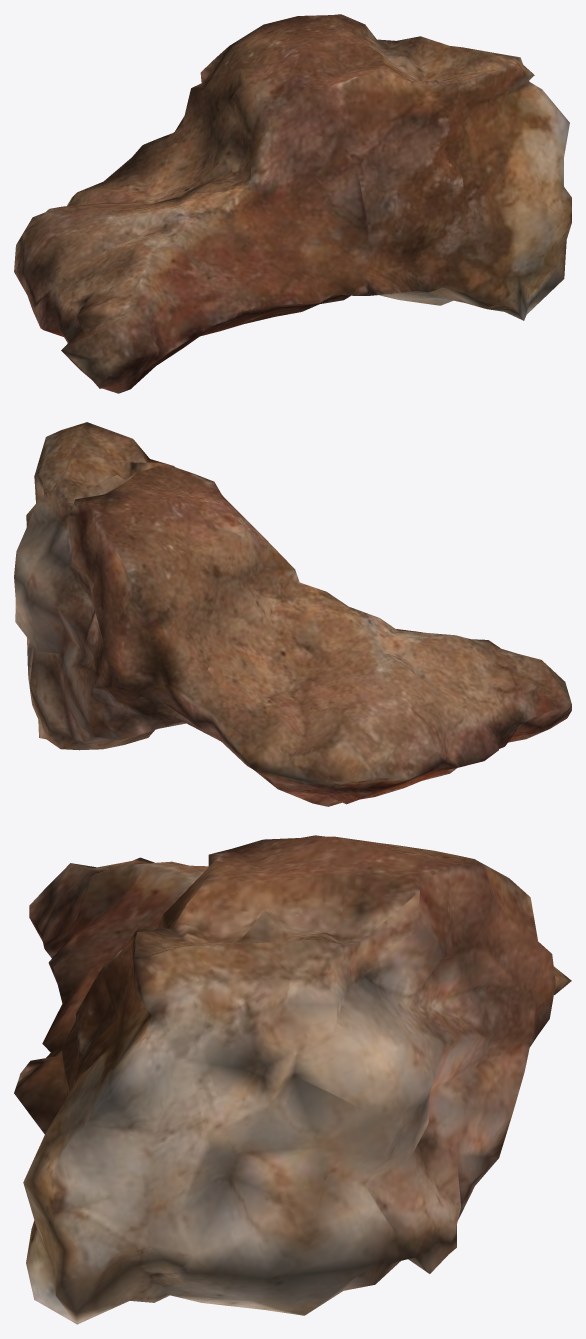
File: stone_01.glb
3 renders of one model, top to bottom at view 1: azimuth 30°, elevation 25°; view 2: azimuth 150°, elevation 25°; view 3: azimuth 270°, elevation 25°, orthographic. The views are drawn at different scales.
Parts seen in each view (by area): view 1: stone_01; view 2: stone_01; view 3: stone_01.
Boxes of the visible parts, <box> form: stone_01: <box>14,14,571,393</box>; stone_01: <box>14,422,571,806</box>; stone_01: <box>14,835,571,1324</box>.
Bounding box in the file's own units: 0.1462 × 0.0705 × 0.0886.
1 material, 1 textured.
